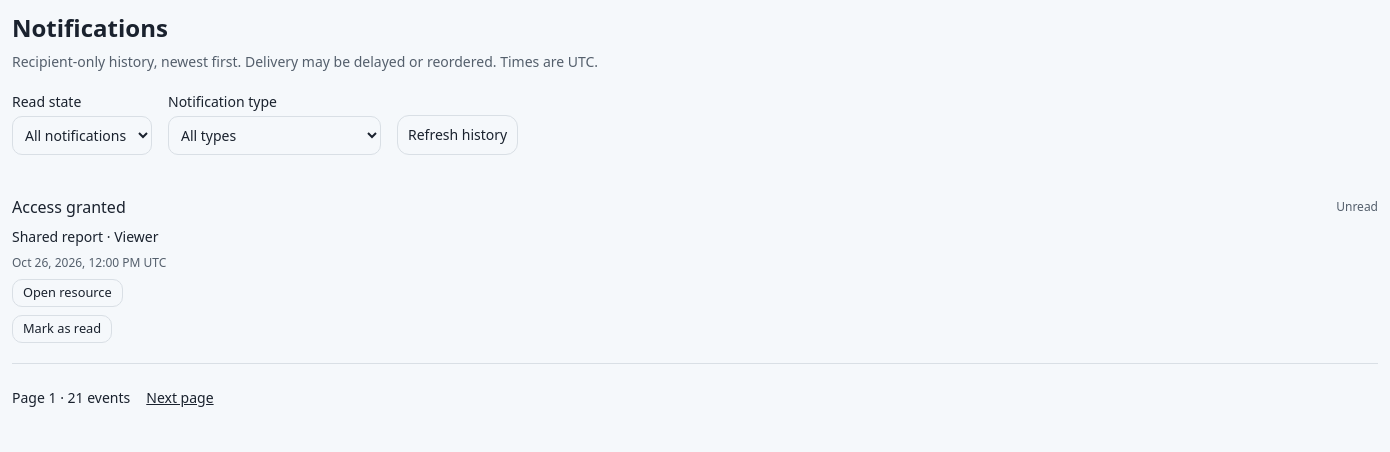
it: keeps unread state on an unconfirmed mutation
Click the button "Mark as read" at (62, 329), box left=12, top=315, right=112, bottom=343
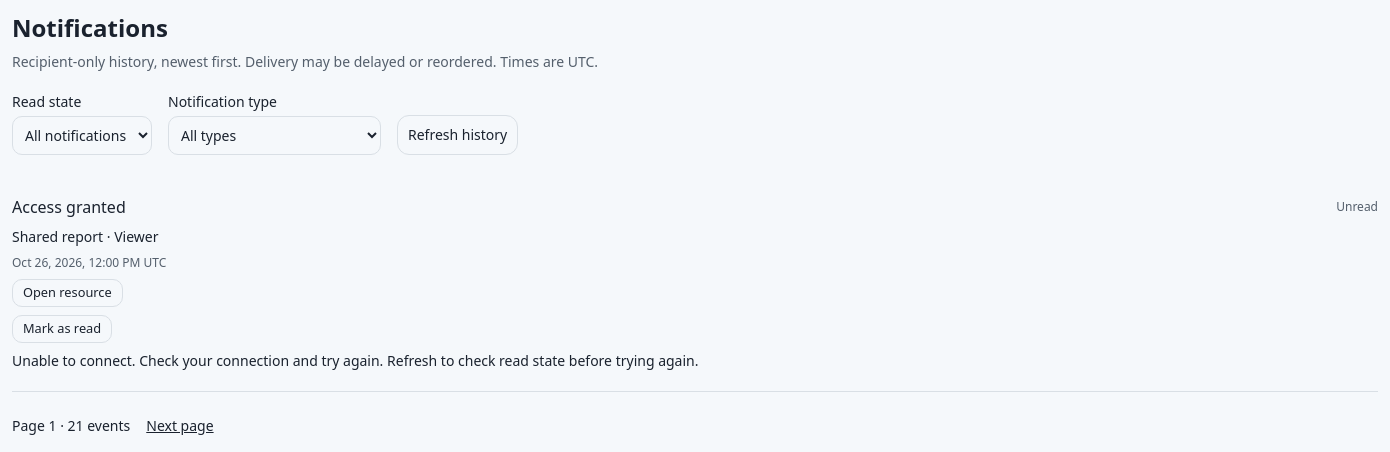
Check: the text "Unread" is shown, box left=1336, top=199, right=1378, bottom=215
Check: the message shows "Refresh to check read state", box left=383, top=351, right=698, bottom=370
